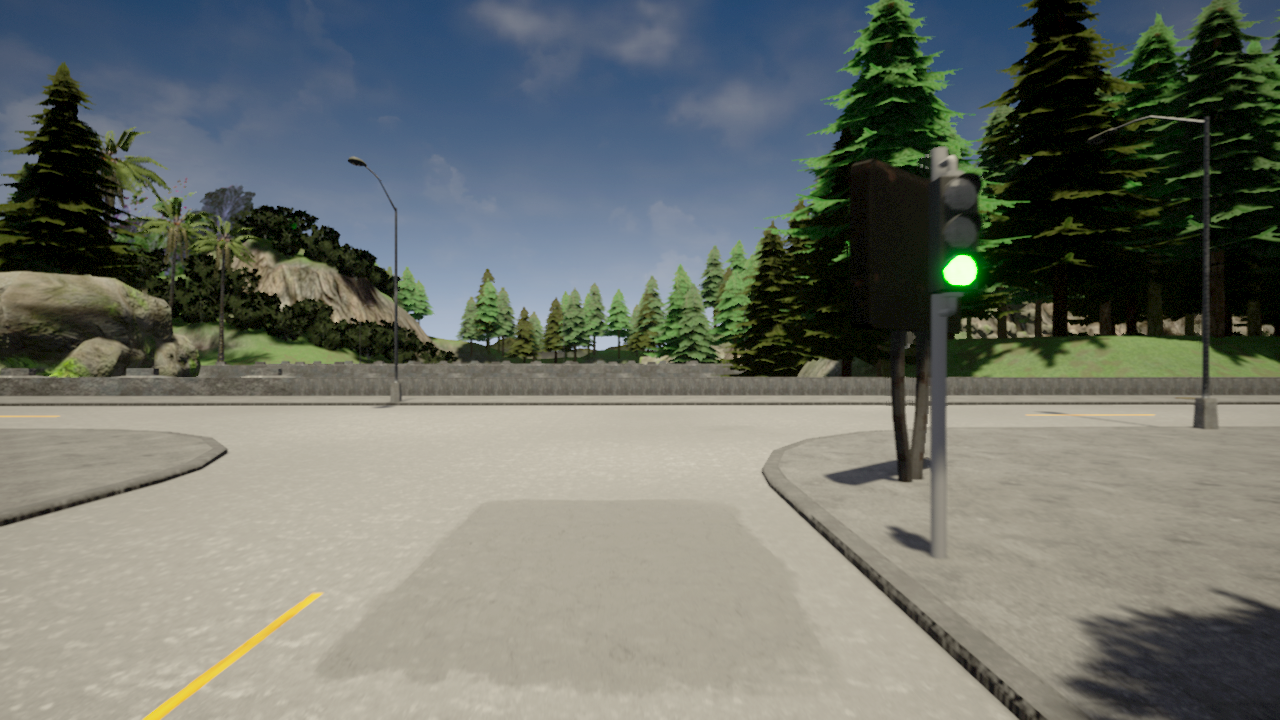green: (923, 167, 985, 296)
